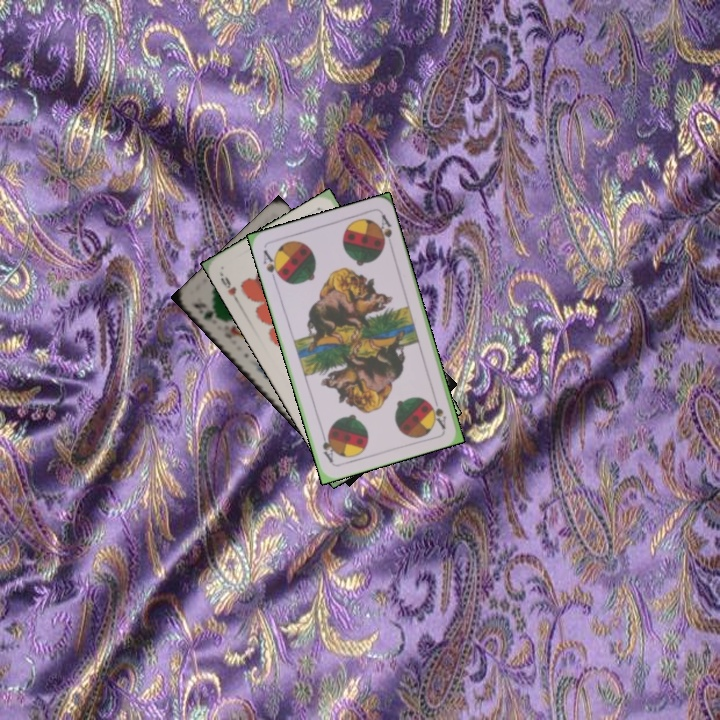GK: (190, 298, 224, 324)
H9: (216, 269, 242, 306)
SA: (259, 246, 284, 285), (428, 391, 449, 431)
